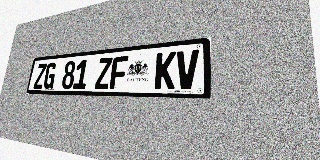1: (73, 59, 89, 89)
8: (61, 60, 77, 89)
F: (109, 56, 128, 89)
G: (43, 62, 57, 89)
K: (154, 51, 176, 89)
V: (175, 49, 199, 89)
Z: (94, 57, 113, 89), (33, 63, 47, 89)
